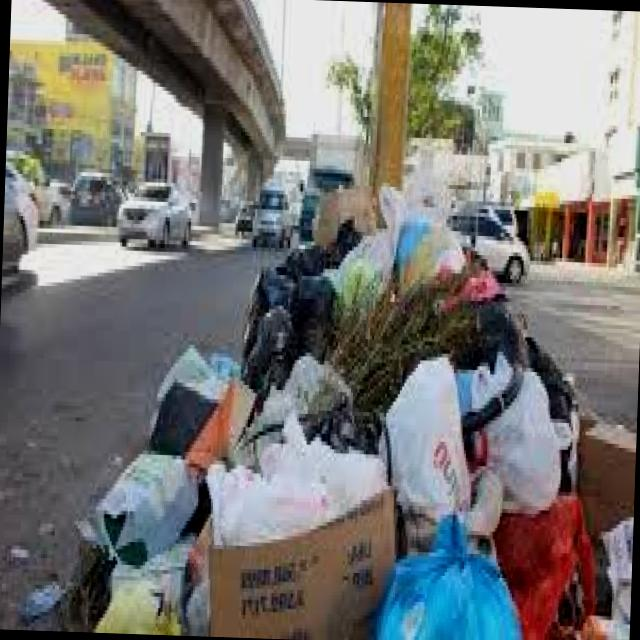garbage: (67, 173, 640, 640)
